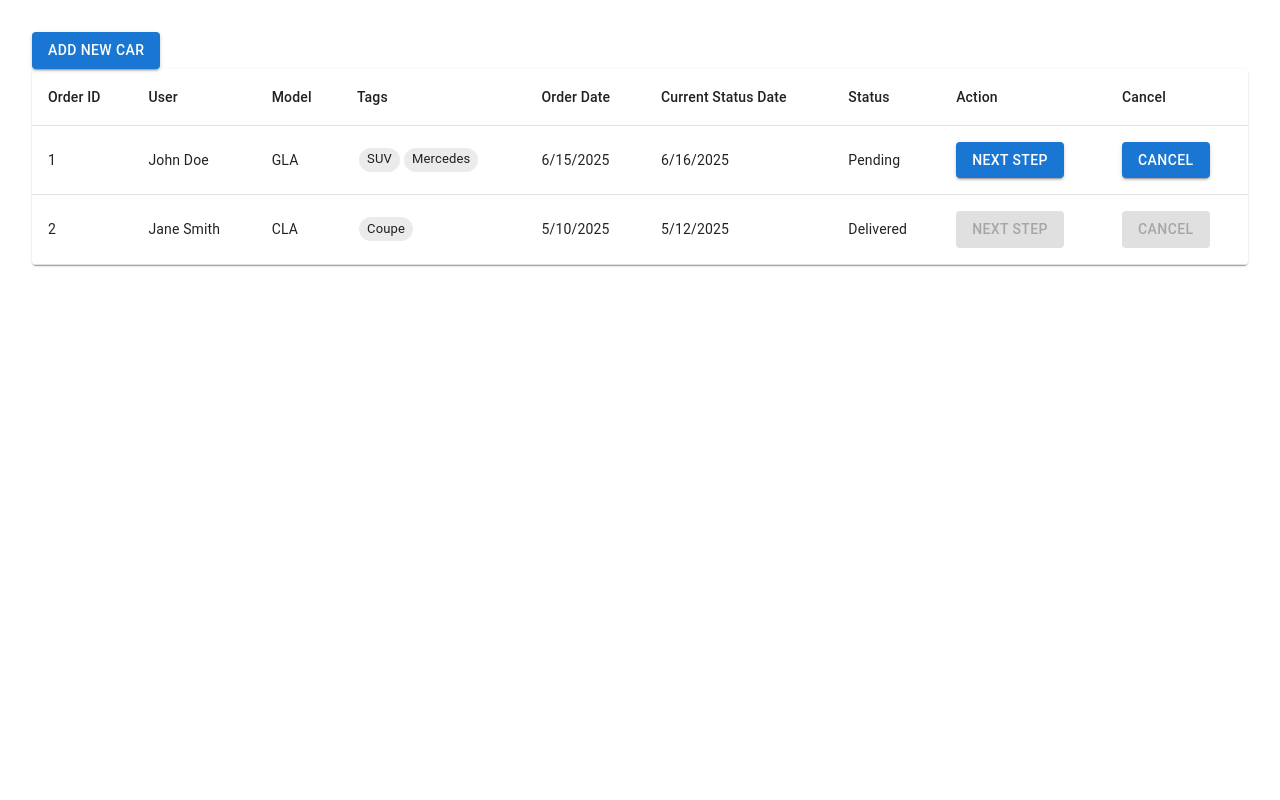
Scenario: OrderTable › removes a tag when delete icon is clicked
Click the button "Add new Car".
click(96, 50)  # box [32,32,160,68]
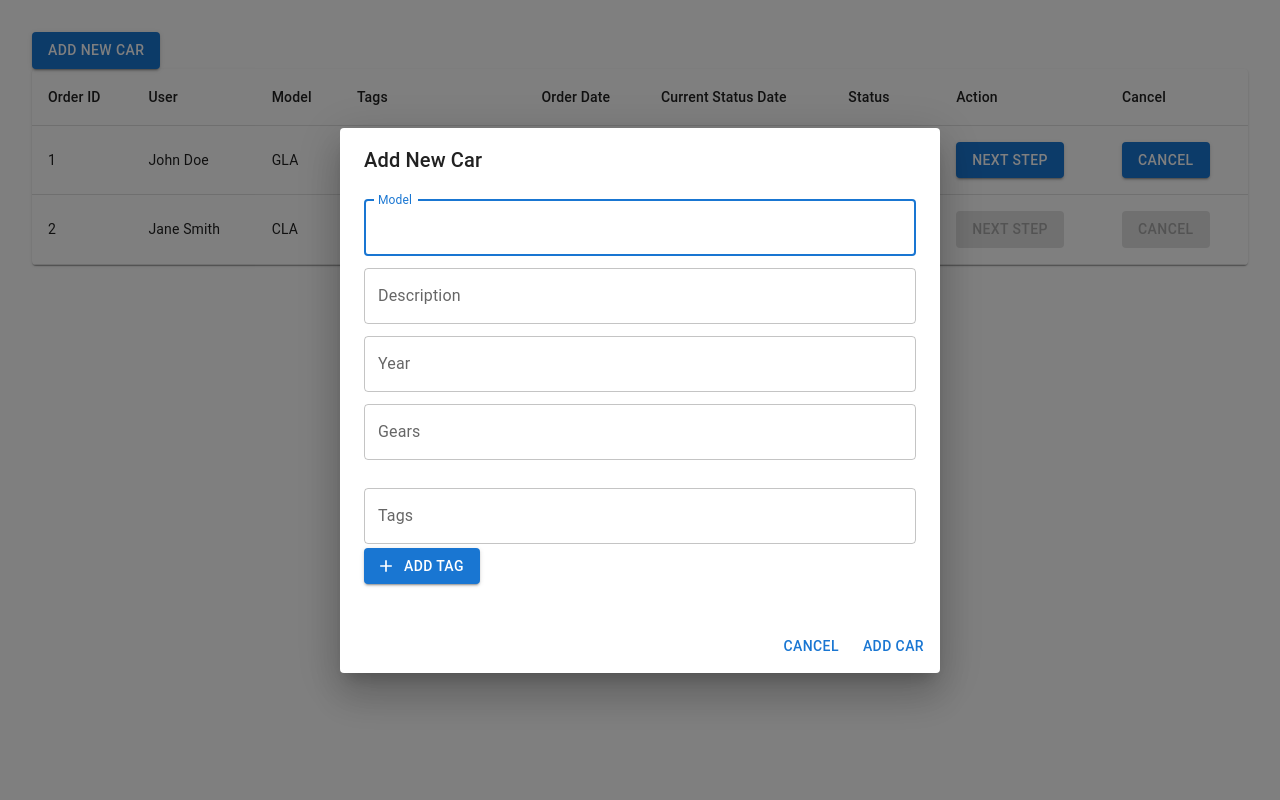
Type "Luxury" into the field labelled "Tags".
click(640, 516); type("Luxury")  # box [364,488,916,544]
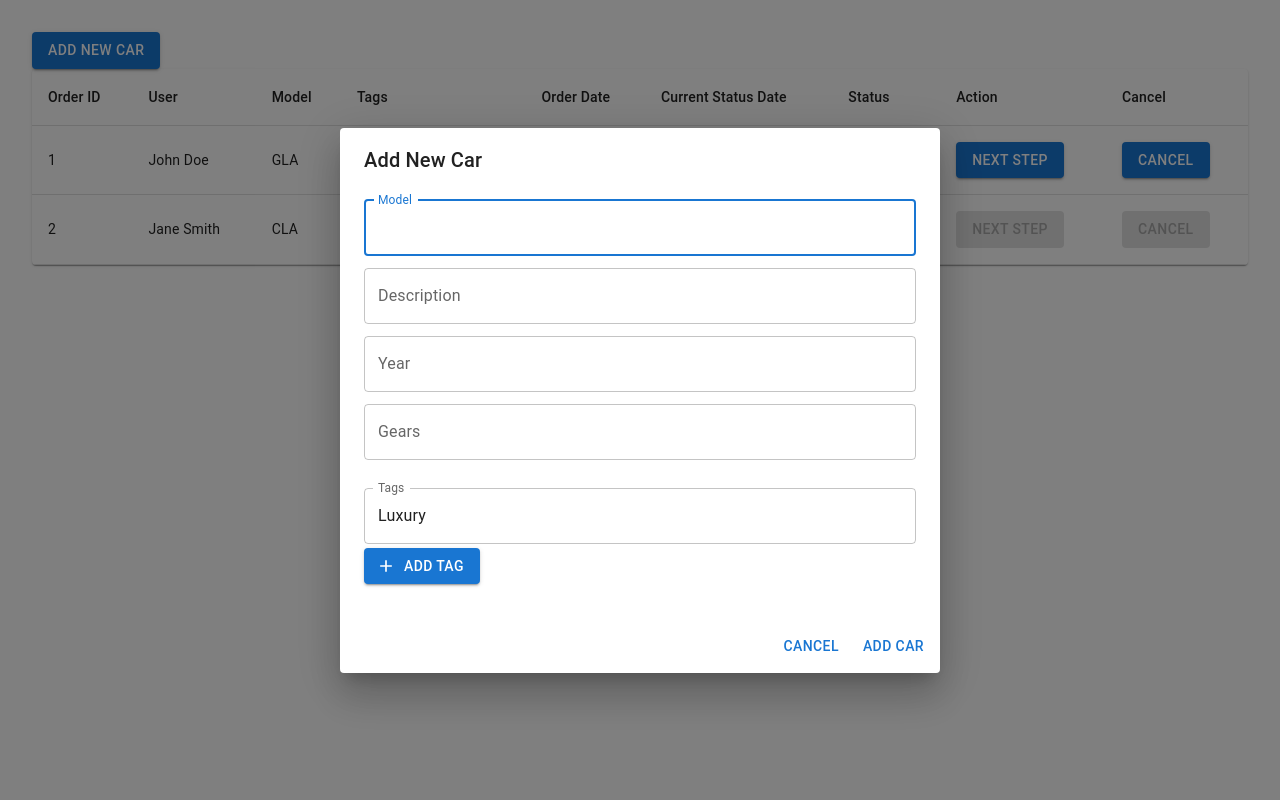
Click the button "Add Tag".
click(422, 566)  # box [364,548,480,584]
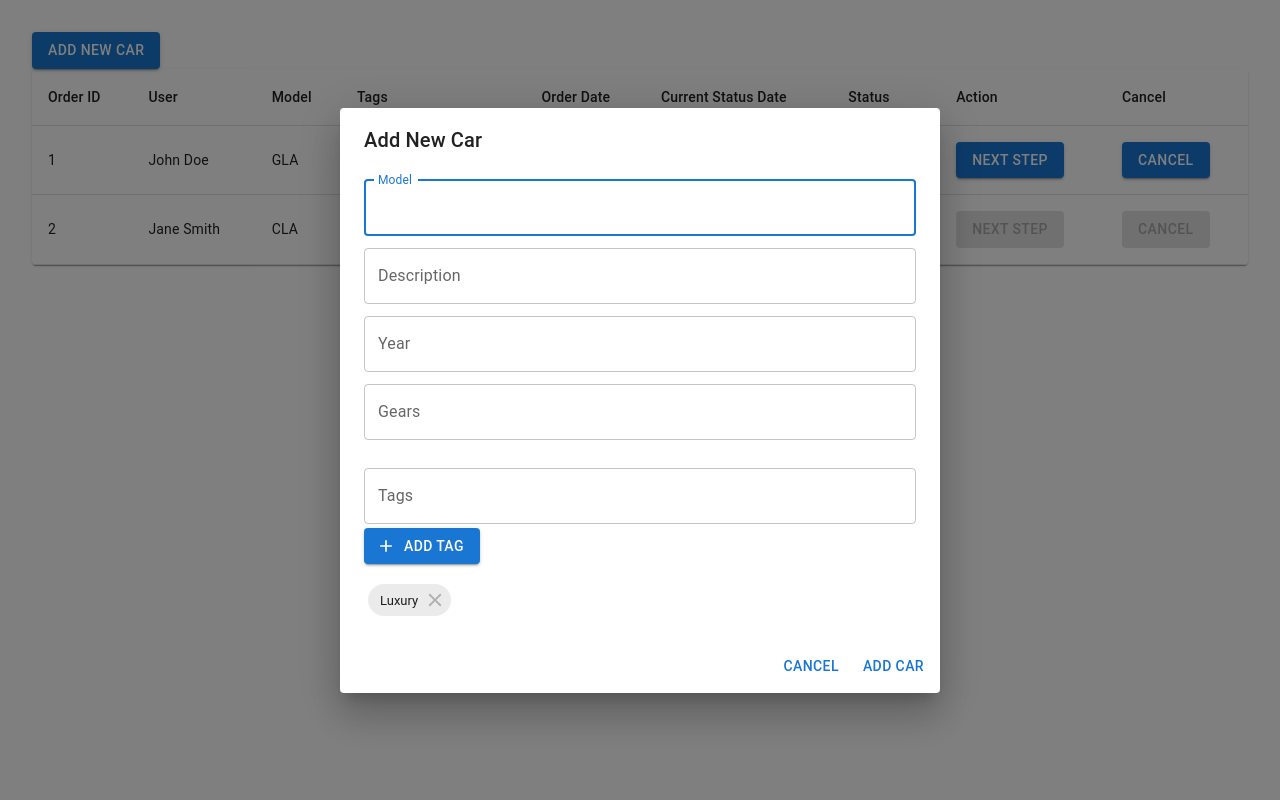
Expected: the text "Luxury" is shown, [380,592,418,608]
Click the icon with test id "CloseIcon".
click(435, 600)  # box [424,589,446,611]
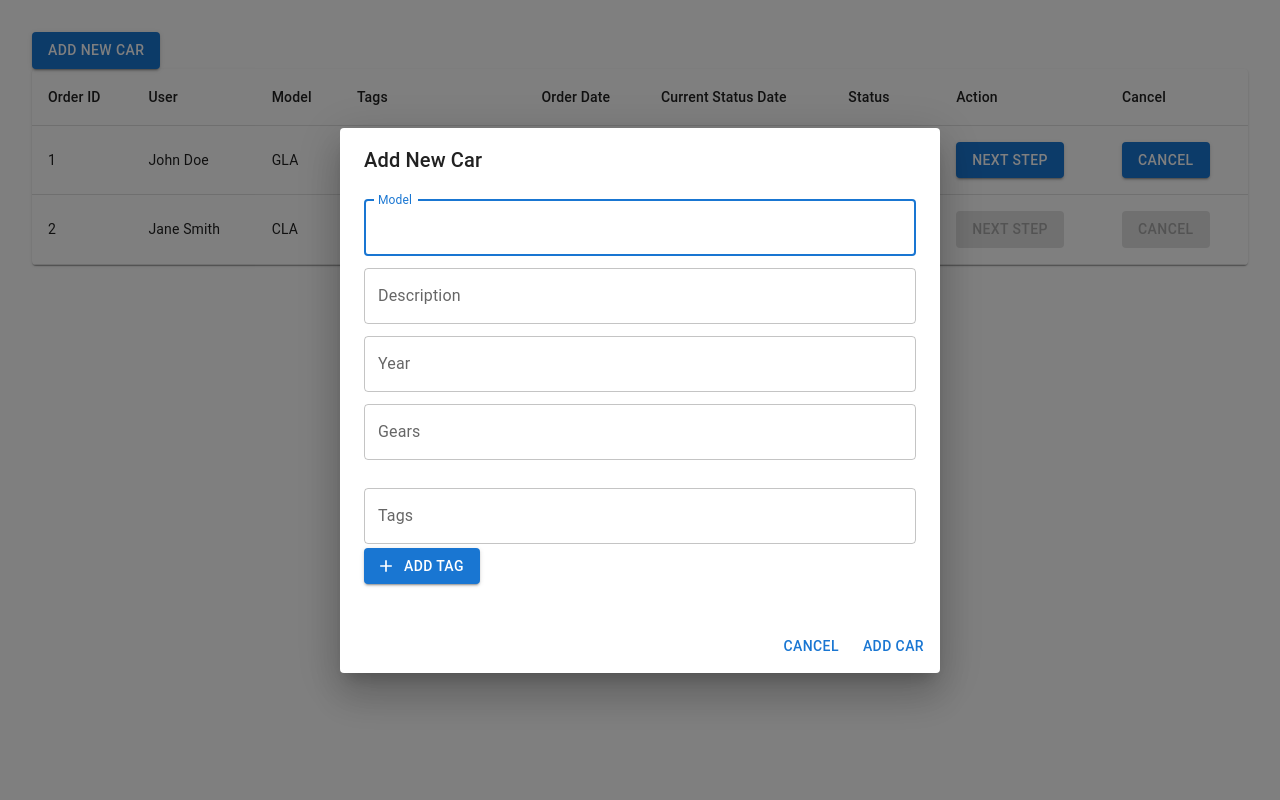
Expected: the button "Luxury" is gone
